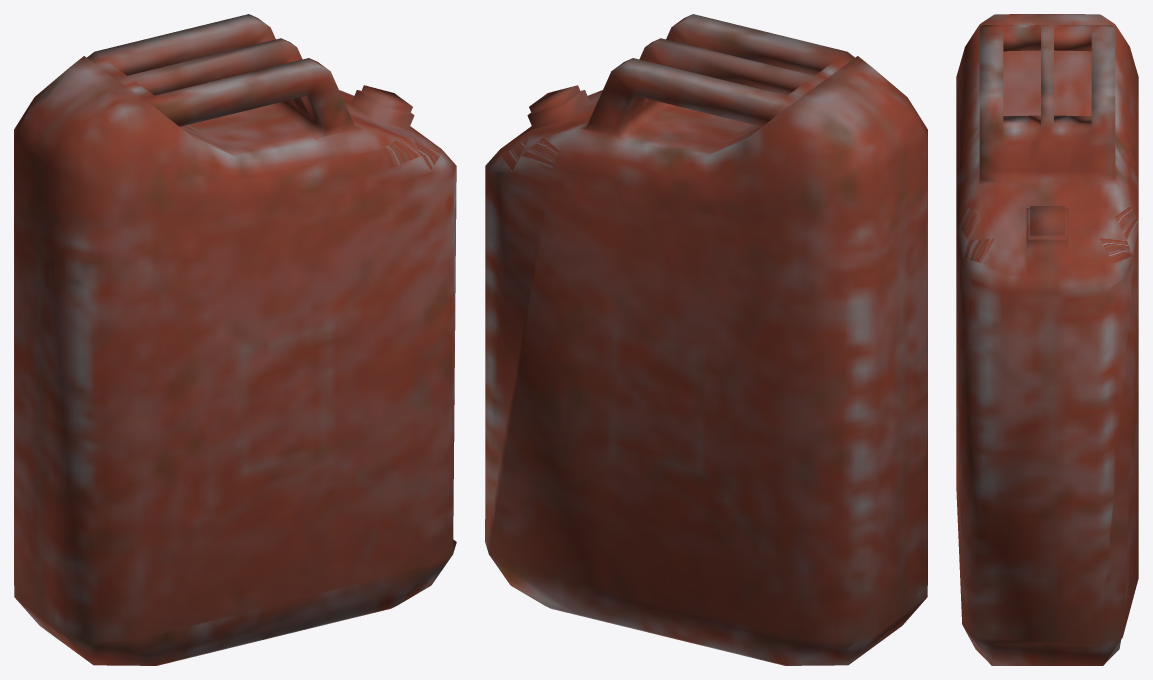
The model's file is Engine Oil.fbx.
The picture shows the model from 3 angles, left to right: view 1: azimuth 30°, elevation 25°; view 2: azimuth 150°, elevation 25°; view 3: azimuth 270°, elevation 25°; orthographic projection. The views are drawn at different scales.
Parts seen in each view (by area): view 1: ENgine Oil; view 2: ENgine Oil; view 3: ENgine Oil.
Boxes of the visible parts, left/top/right/bottom form: ENgine Oil: left=14, top=14, right=456, bottom=665; ENgine Oil: left=485, top=14, right=927, bottom=665; ENgine Oil: left=956, top=14, right=1138, bottom=665.
Bounding box in the file's own units: 43.59 × 59.82 × 18.97.
Materials: 1 (1 with a texture image).
